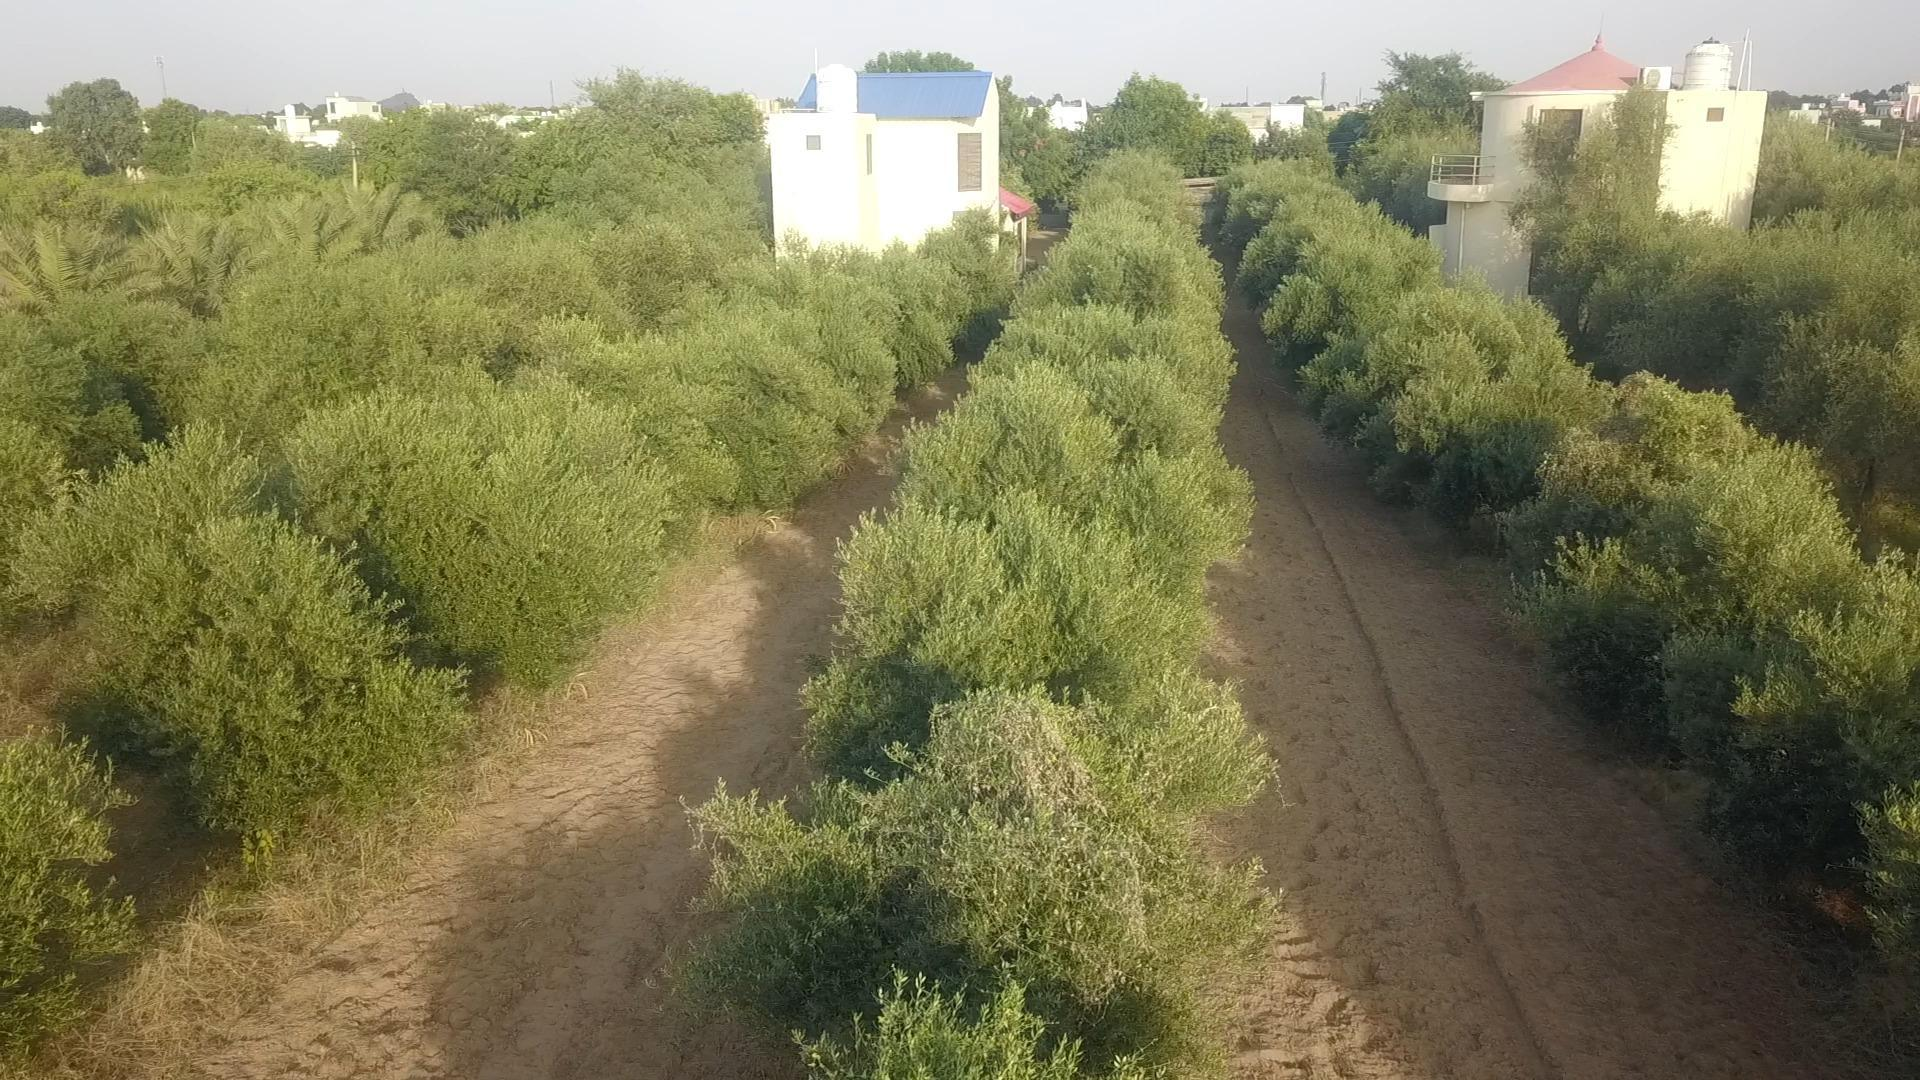canopy: (0, 236, 1011, 1044), (1220, 160, 1919, 967), (691, 156, 1274, 1079)
road: (1212, 305, 1847, 1079), (190, 471, 891, 1079)
